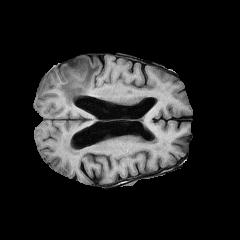glioma: (59, 58, 98, 107)
